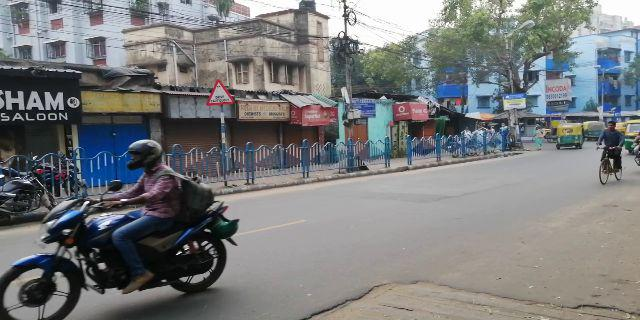Autorickshaw: (554, 121, 583, 150)
Cycle: (596, 121, 626, 185)
Motorbike: (1, 132, 229, 320)
